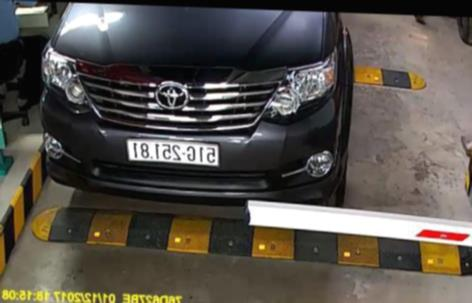License_Plate: (127, 135, 222, 167)
